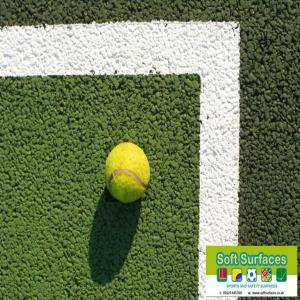TennisBall: (106, 143, 151, 204)
